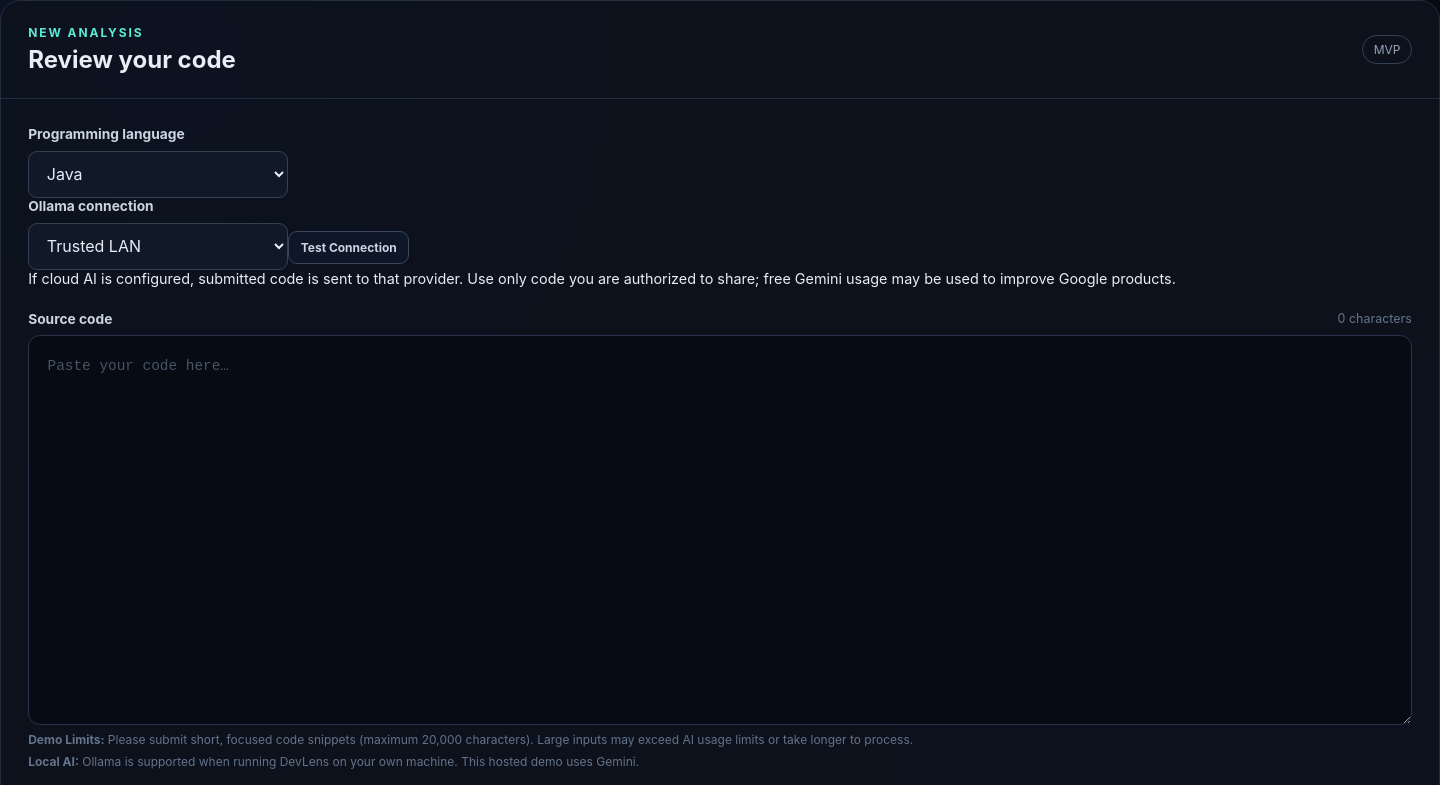
Test: AnalysisForm › shows actionable recovery when the Ollama connection test is offline
Expected: the dropdown labelled "Ollama connection" is shown, [28,223,288,270]
What coordinates should you click on to do the following:
click the button "Test Connection"
I would click on:
 (349, 248)
Its box is [288,231,409,264].
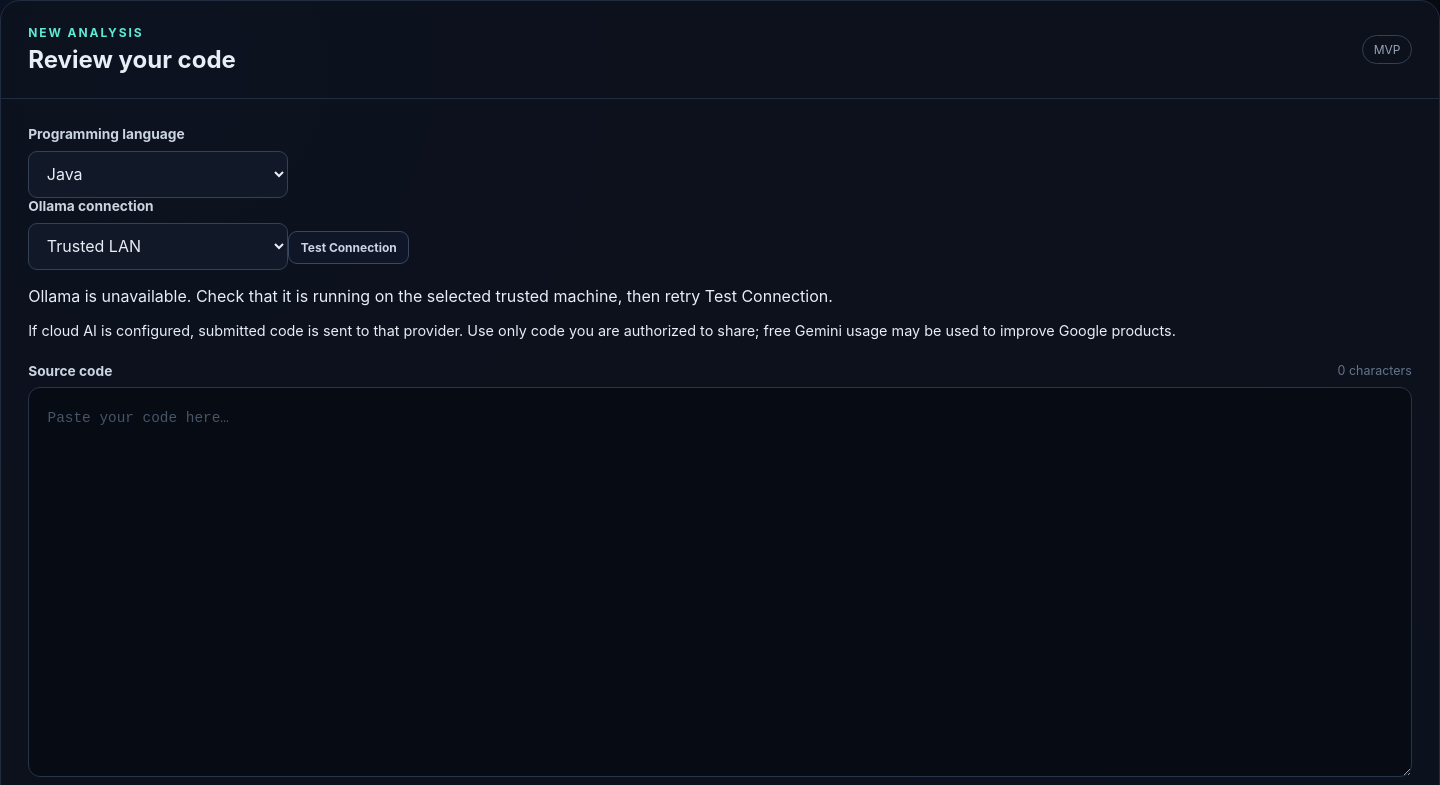
Result: the message shows "Check that it is running on the selected trusted machine" at [28,286,833,306]
